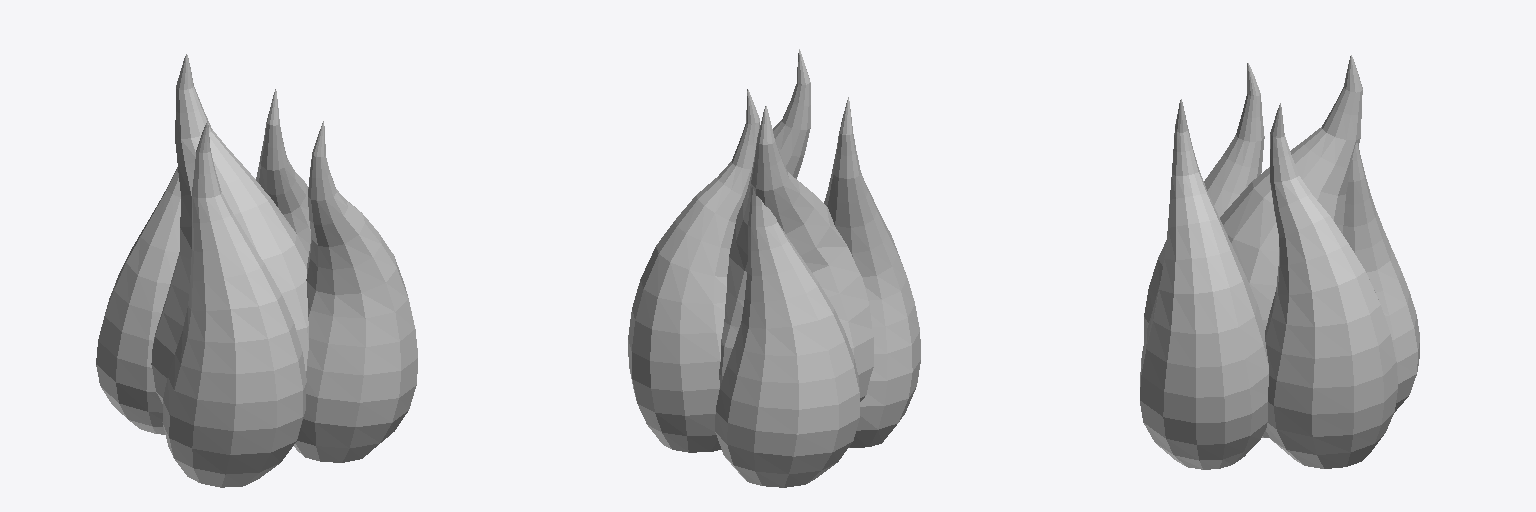
Rendered from fire_000063.obj.
3 views of the same model, side by side, from view 1: azimuth 30°, elevation 25°; view 2: azimuth 150°, elevation 25°; view 3: azimuth 270°, elevation 25° (orthographic).
Visible parts, largest first — view 1: flame_NurbsPath.015; view 2: flame_NurbsPath.015; view 3: flame_NurbsPath.015.
Boxes of the visible parts, <box> form: flame_NurbsPath.015: <box>96,54,417,487</box>; flame_NurbsPath.015: <box>628,49,920,487</box>; flame_NurbsPath.015: <box>1140,55,1419,469</box>.
Size of the model in its own units: 0.7633 by 1.16 by 0.7986.